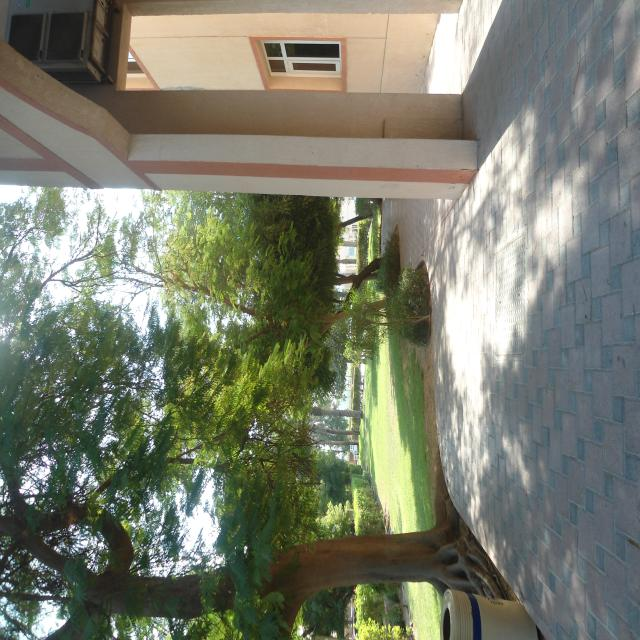path: (441, 220, 640, 521)
pillar: (0, 44, 478, 200)
tree-chair-bench-table-wall: (0, 190, 516, 640), (0, 189, 356, 640), (171, 195, 431, 397)
